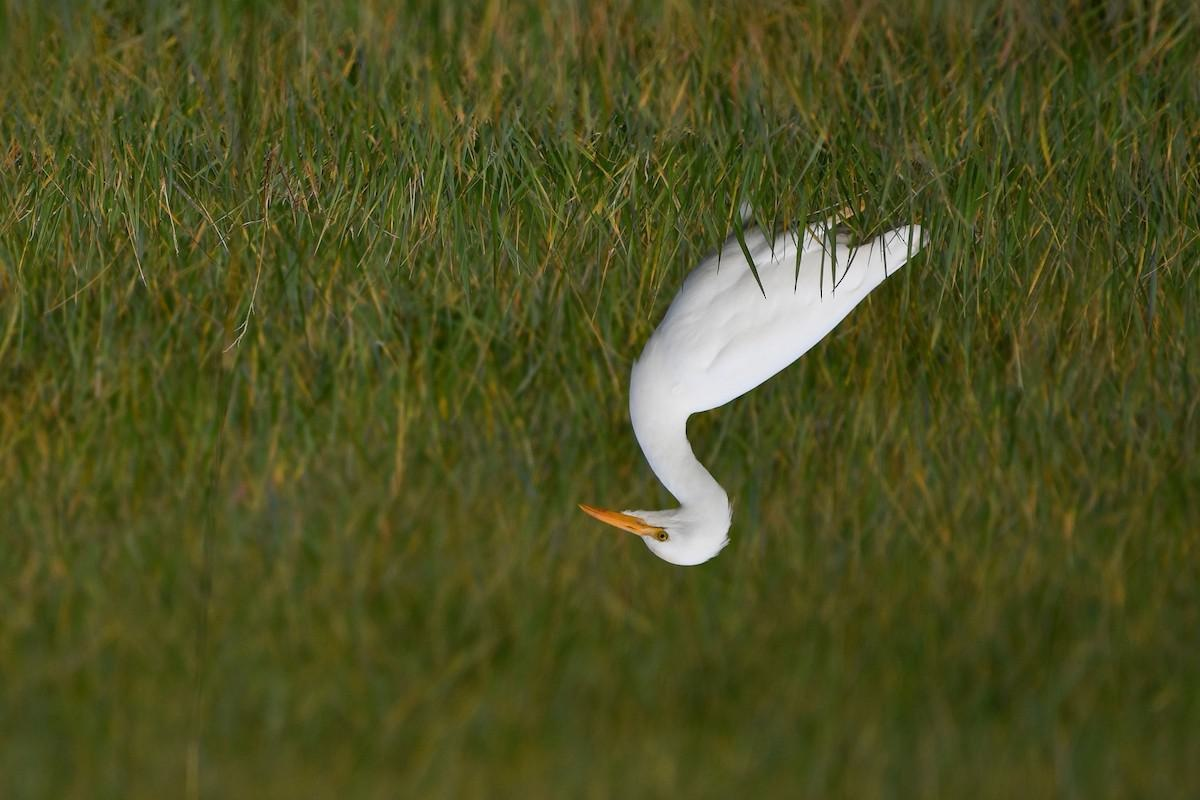egret: (570, 205, 944, 588)
